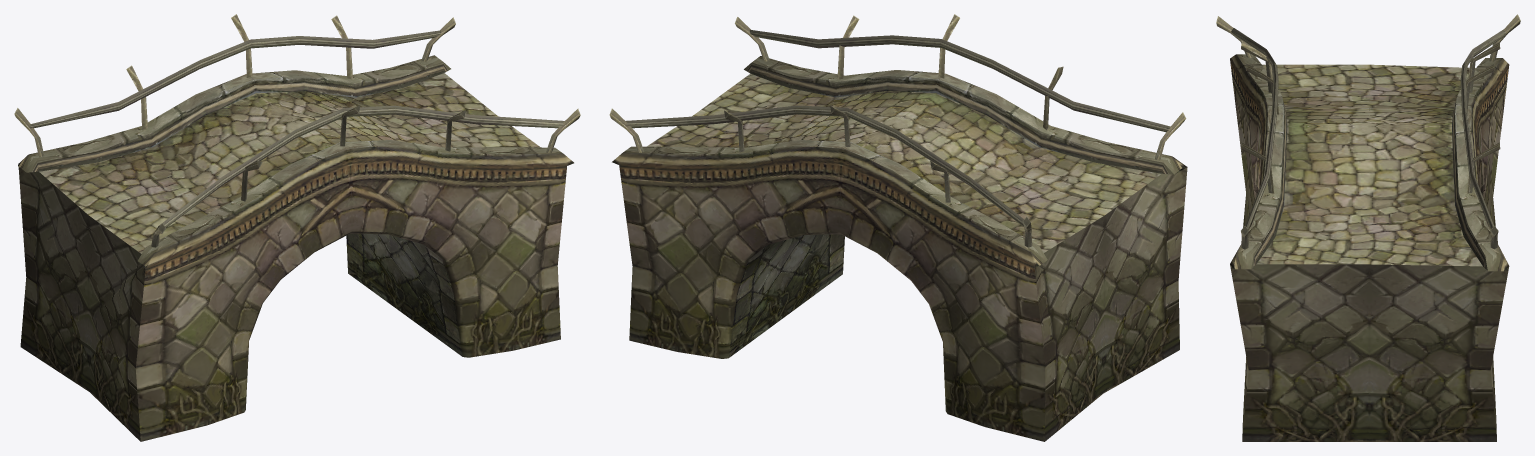
3 views of the same model, side by side, from view 1: azimuth 30°, elevation 25°; view 2: azimuth 150°, elevation 25°; view 3: azimuth 270°, elevation 25° (orthographic).
Visible parts, largest first — view 1: DN_lv3_sd_bd07; view 2: DN_lv3_sd_bd07; view 3: DN_lv3_sd_bd07.
Part boxes in pixels (left/top/right/bottom): DN_lv3_sd_bd07: left=14, top=14, right=580, bottom=441; DN_lv3_sd_bd07: left=609, top=14, right=1187, bottom=441; DN_lv3_sd_bd07: left=1216, top=14, right=1520, bottom=441.
Size of the model in its own units: 1349 by 822 by 806.
